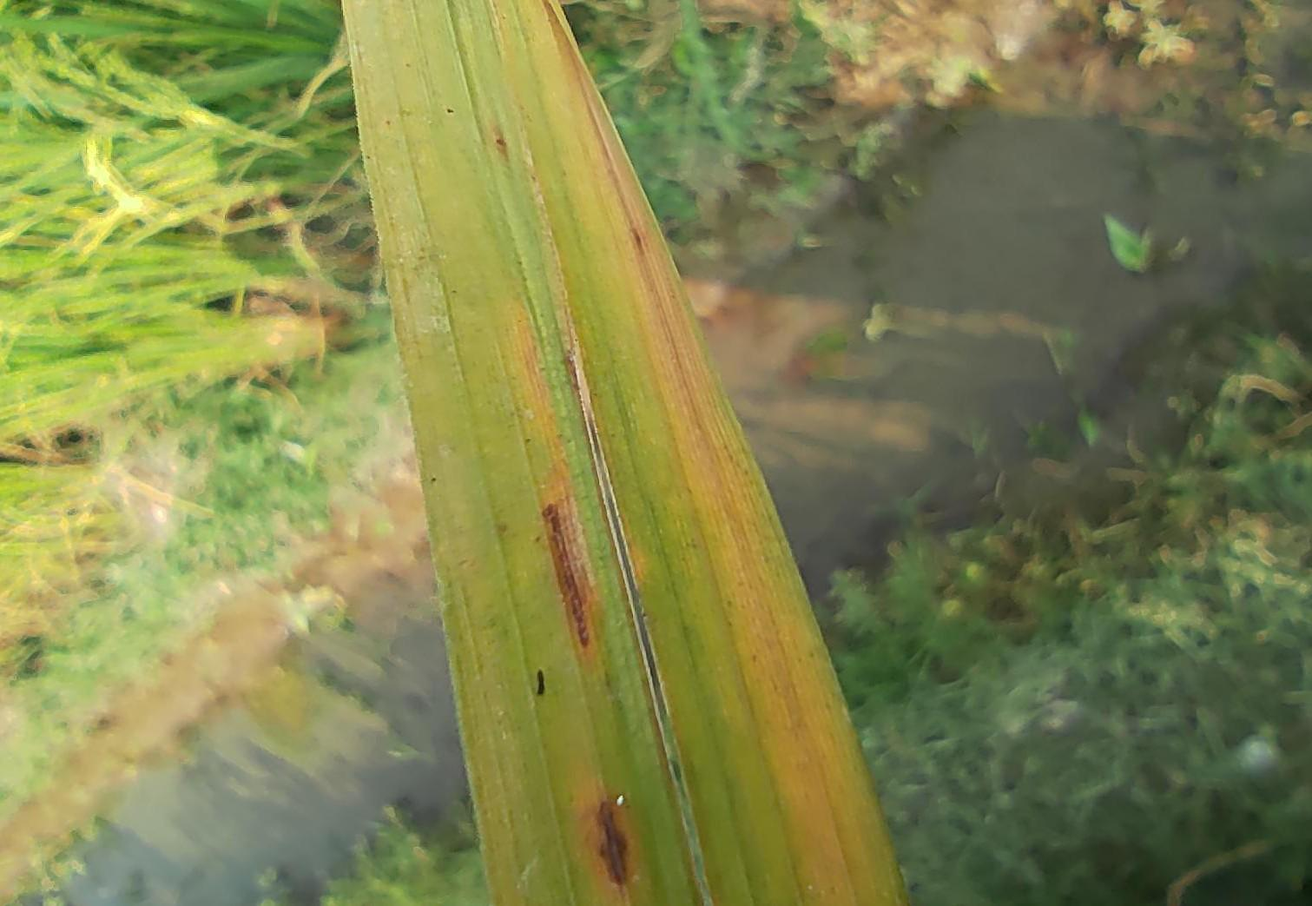LEAF: (343, 0, 905, 905)
LEAF BLAST: (543, 481, 600, 648), (597, 801, 627, 884)
